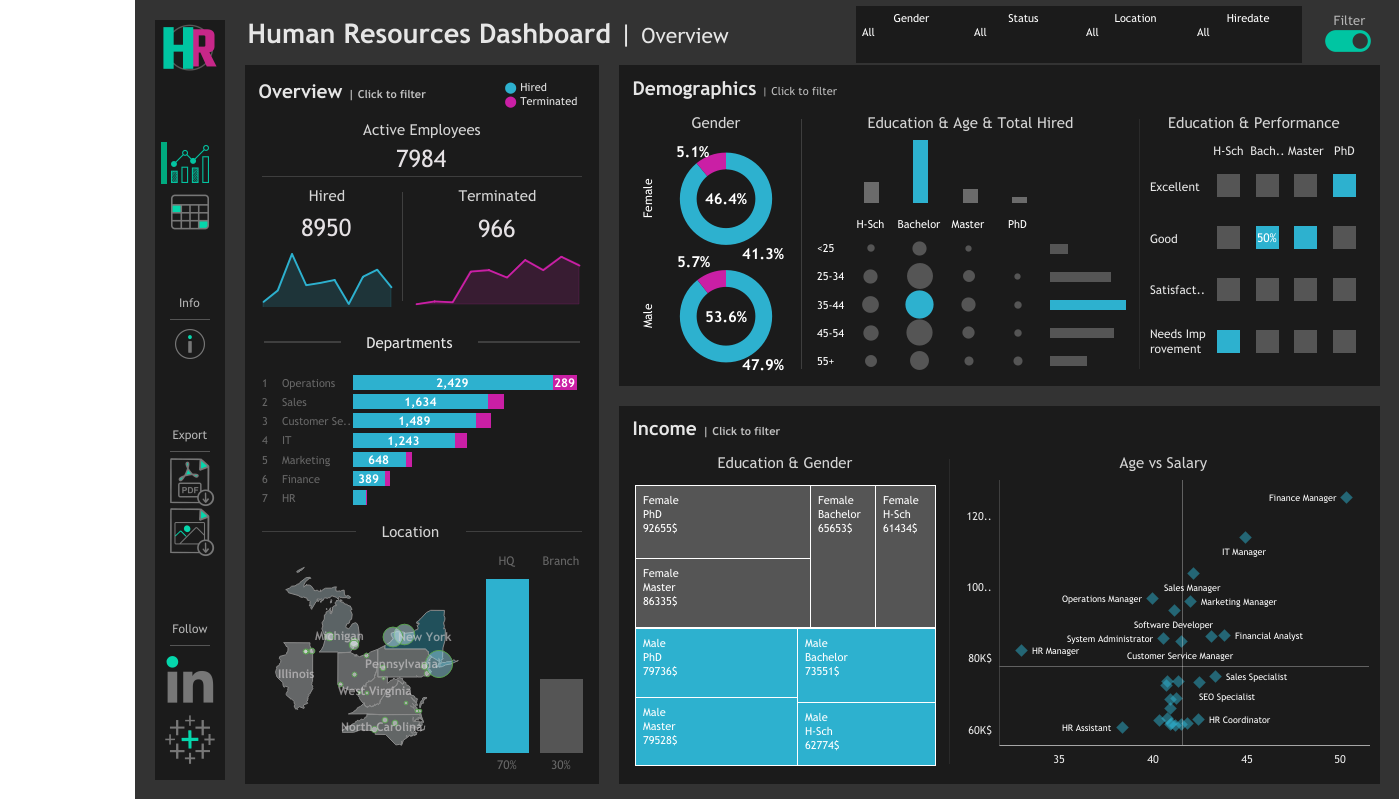

The page's visual inventory and layout, read from the dashboard file:
{"tool":"tableau","page":{"name":"HR | Summary","canvas":[1400,800],"ordinal":1},"visuals":[{"type":"blank","box":[222,0,1179,200]},{"type":"text","box":[245,0,554,65]},{"type":"blank","box":[799,0,581,65]},{"type":"text","box":[1300,5,100,30]},{"type":"filter","title":"Salary by Edcation / Gender","param":"[federated.09ht2k31vbrc1c11w1nxh0uc7tdy].[none:Gender:nk]","box":[856,6,112,57]},{"type":"filter","title":"Salary by Edcation / Gender","param":"[federated.09ht2k31vbrc1c11w1nxh0uc7tdy].[none:Calculation_1055570724478984:nk]","box":[968,6,112,57]},{"type":"filter","title":"Salary by Edcation / Gender","param":"[federated.09ht2k31vbrc1c11w1nxh0uc7tdy].[none:Calculation_867505916739874822:nk","box":[1080,6,111,57]},{"type":"filter","title":"Salary by Edcation / Gender","param":"[federated.09ht2k31vbrc1c11w1nxh0uc7tdy].[yr:Hiredate:ok]","box":[1191,6,111,57]},{"type":"image","param":"Image/Logo.png","box":[155,20,70,55]},{"type":"dashboard-object","box":[1325,25,47,33]},{"type":"text","box":[252,72,340,38]},{"type":"text","box":[626,72,747,32]},{"type":"blank","box":[155,75,70,60]},{"type":"text","box":[502,76,103,36]},{"type":"text","box":[631,109,170,26]},{"type":"blank","box":[801,109,1,270]},{"type":"text","box":[807,109,327,26]},{"type":"blank","box":[1139,109,1,270]},{"type":"text","box":[1140,109,228,26]},{"type":"text","box":[252,110,340,32]},{"type":"worksheet","title":"Gender","mark":"Pie","rows":["Gender"],"cols":["Calculation_723953678641213446","Calculation_723953678641233928"],"box":[631,135,170,244]},{"type":"worksheet","title":"Total Hired by Education","mark":"Automatic","rows":["Calculation_867505916725301248"],"cols":["Education Level"],"box":[807,135,327,74]},{"type":"worksheet","title":"Performance by Education","mark":"Square","rows":["Performance Rating"],"cols":["Education Level"],"box":[1140,135,228,235]},{"type":"blank","box":[161,142,6,42]},{"type":"worksheet","title":"Ban Of Active","mark":"Automatic","box":[252,142,340,33]},{"type":"dashboard-object","box":[165,145,50,38]},{"type":"blank","box":[252,175,340,1]},{"type":"text","box":[252,181,150,26]},{"type":"blank","box":[402,181,1,129]},{"type":"text","box":[403,181,189,26]},{"type":"blank","box":[165,183,50,10]},{"type":"dashboard-object","box":[165,193,50,38]},{"type":"text","box":[222,200,1179,306]},{"type":"worksheet","title":"Ban Of Hired","mark":"Automatic","box":[252,207,150,37]},{"type":"worksheet","title":"Ban Terminated","mark":"Automatic","box":[403,207,189,40]},{"type":"worksheet","title":"Age vs Education","mark":"Circle","rows":["Calculation_209980371551563777"],"cols":["Education Level"],"box":[807,209,239,170]},{"type":"worksheet","title":"Total Hired by Age Group","mark":"Automatic","rows":["Calculation_209980371551563777"],"cols":["Calculation_867505916725301248"],"box":[1046,209,88,170]},{"type":"blank","box":[165,231,50,60]},{"type":"worksheet","title":"Hired By Year","mark":"Line","rows":["Calculation_867505916725301248","Calculation_867505916725301248"],"cols":["Hiredate"],"box":[252,244,150,66]},{"type":"worksheet","title":"Terminated Date","mark":"Line","rows":["Calculation_867505916726083585","Calculation_867505916726083585"],"cols":["Termdate"],"box":[403,247,189,63]},{"type":"text","box":[165,291,50,22]},{"type":"blank","box":[165,313,50,11]},{"type":"blank","box":[257,315,91,53]},{"type":"text","box":[348,315,123,53]},{"type":"blank","box":[471,315,116,53]},{"type":"dashboard-object","box":[165,324,50,38]},{"type":"blank","box":[165,362,50,60]},{"type":"worksheet","title":"Departments","mark":"Bar","rows":["Calculation_867505916738473988","Department"],"cols":["Calculation_867505916725301248"],"box":[252,368,340,142]},{"type":"text","box":[626,413,747,31]},{"type":"text","box":[165,422,50,22]},{"type":"blank","box":[165,444,50,11]},{"type":"text","box":[626,449,318,26]},{"type":"blank","box":[949,449,1,325]},{"type":"text","box":[955,449,418,26]},{"type":"dashboard-object","box":[165,455,50,50]},{"type":"worksheet","title":"Salary by Edcation / Gender","mark":"Automatic","box":[626,475,318,299]},{"type":"worksheet","title":"Salary by Age","mark":"Shape","rows":["Salary"],"cols":["Calculation_209980371547983872"],"box":[955,475,418,299]},{"type":"dashboard-object","box":[165,505,50,50]},{"type":"blank","box":[222,506,1179,294]},{"type":"blank","box":[257,515,99,30]},{"type":"text","box":[356,515,109.5,30]},{"type":"blank","box":[465.5,515,121.5,30]},{"type":"worksheet","title":"MAP States","mark":"Automatic","box":[252,545,224,232]},{"type":"worksheet","title":"Location","mark":"Bar","rows":["Calculation_867505916725301248"],"cols":["Calculation_867505916739874822","Calculation1"],"box":[476,545,116,232]},{"type":"blank","box":[165,555,50,60]},{"type":"text","box":[165,615,50,22]},{"type":"blank","box":[165,637,50,11]},{"type":"image","param":"Image/contact-linkedin.png","box":[165,648,50,61]},{"type":"image","param":"Image/contact-public.png","box":[165,709,50,61]}]}

Visuals, with their boxes in screenshot pixels (x1, y1, x2, y2), scaled from the page's 1400x800 canvas onto the 1399x799 screenshot:
blank: pyautogui.locateOnScreen(222, 0, 1398, 200)
text: pyautogui.locateOnScreen(245, 0, 798, 65)
blank: pyautogui.locateOnScreen(798, 0, 1379, 65)
text: pyautogui.locateOnScreen(1299, 5, 1398, 35)
"Salary by Edcation / Gender" filter: pyautogui.locateOnScreen(855, 6, 967, 63)
"Salary by Edcation / Gender" filter: pyautogui.locateOnScreen(967, 6, 1079, 63)
"Salary by Edcation / Gender" filter: pyautogui.locateOnScreen(1079, 6, 1190, 63)
"Salary by Edcation / Gender" filter: pyautogui.locateOnScreen(1190, 6, 1301, 63)
image: pyautogui.locateOnScreen(155, 20, 225, 75)
dashboard-object: pyautogui.locateOnScreen(1324, 25, 1371, 58)
text: pyautogui.locateOnScreen(252, 72, 592, 110)
text: pyautogui.locateOnScreen(626, 72, 1372, 104)
blank: pyautogui.locateOnScreen(155, 75, 225, 135)
text: pyautogui.locateOnScreen(502, 76, 605, 112)
text: pyautogui.locateOnScreen(631, 109, 800, 135)
blank: pyautogui.locateOnScreen(800, 109, 801, 379)
text: pyautogui.locateOnScreen(806, 109, 1133, 135)
blank: pyautogui.locateOnScreen(1138, 109, 1139, 379)
text: pyautogui.locateOnScreen(1139, 109, 1367, 135)
text: pyautogui.locateOnScreen(252, 110, 592, 142)
"Gender" worksheet (Pie marks): pyautogui.locateOnScreen(631, 135, 800, 379)
"Total Hired by Education" worksheet: pyautogui.locateOnScreen(806, 135, 1133, 209)
"Performance by Education" worksheet (Square marks): pyautogui.locateOnScreen(1139, 135, 1367, 370)
blank: pyautogui.locateOnScreen(161, 142, 167, 184)
"Ban Of Active" worksheet: pyautogui.locateOnScreen(252, 142, 592, 175)
dashboard-object: pyautogui.locateOnScreen(165, 145, 215, 183)
blank: pyautogui.locateOnScreen(252, 175, 592, 176)
text: pyautogui.locateOnScreen(252, 181, 402, 207)
blank: pyautogui.locateOnScreen(402, 181, 403, 310)
text: pyautogui.locateOnScreen(403, 181, 592, 207)
blank: pyautogui.locateOnScreen(165, 183, 215, 193)
dashboard-object: pyautogui.locateOnScreen(165, 193, 215, 231)
text: pyautogui.locateOnScreen(222, 200, 1398, 505)
"Ban Of Hired" worksheet: pyautogui.locateOnScreen(252, 207, 402, 244)
"Ban Terminated" worksheet: pyautogui.locateOnScreen(403, 207, 592, 247)
"Age vs Education" worksheet (Circle marks): pyautogui.locateOnScreen(806, 209, 1045, 379)
"Total Hired by Age Group" worksheet: pyautogui.locateOnScreen(1045, 209, 1133, 379)
blank: pyautogui.locateOnScreen(165, 231, 215, 291)
"Hired By Year" worksheet (Line marks): pyautogui.locateOnScreen(252, 244, 402, 310)
"Terminated Date" worksheet (Line marks): pyautogui.locateOnScreen(403, 247, 592, 310)
text: pyautogui.locateOnScreen(165, 291, 215, 313)
blank: pyautogui.locateOnScreen(165, 313, 215, 324)
blank: pyautogui.locateOnScreen(257, 315, 348, 368)
text: pyautogui.locateOnScreen(348, 315, 471, 368)
blank: pyautogui.locateOnScreen(471, 315, 587, 368)
dashboard-object: pyautogui.locateOnScreen(165, 324, 215, 362)
blank: pyautogui.locateOnScreen(165, 362, 215, 421)
"Departments" worksheet (Bar marks): pyautogui.locateOnScreen(252, 368, 592, 509)
text: pyautogui.locateOnScreen(626, 412, 1372, 443)
text: pyautogui.locateOnScreen(165, 421, 215, 443)
blank: pyautogui.locateOnScreen(165, 443, 215, 454)
text: pyautogui.locateOnScreen(626, 448, 943, 474)
blank: pyautogui.locateOnScreen(948, 448, 949, 773)
text: pyautogui.locateOnScreen(954, 448, 1372, 474)
dashboard-object: pyautogui.locateOnScreen(165, 454, 215, 504)
"Salary by Edcation / Gender" worksheet: pyautogui.locateOnScreen(626, 474, 943, 773)
"Salary by Age" worksheet (Shape marks): pyautogui.locateOnScreen(954, 474, 1372, 773)
dashboard-object: pyautogui.locateOnScreen(165, 504, 215, 554)
blank: pyautogui.locateOnScreen(222, 505, 1398, 798)
blank: pyautogui.locateOnScreen(257, 514, 356, 544)
text: pyautogui.locateOnScreen(356, 514, 465, 544)
blank: pyautogui.locateOnScreen(465, 514, 587, 544)
"MAP States" worksheet: pyautogui.locateOnScreen(252, 544, 476, 776)
"Location" worksheet (Bar marks): pyautogui.locateOnScreen(476, 544, 592, 776)
blank: pyautogui.locateOnScreen(165, 554, 215, 614)
text: pyautogui.locateOnScreen(165, 614, 215, 636)
blank: pyautogui.locateOnScreen(165, 636, 215, 647)
image: pyautogui.locateOnScreen(165, 647, 215, 708)
image: pyautogui.locateOnScreen(165, 708, 215, 769)
